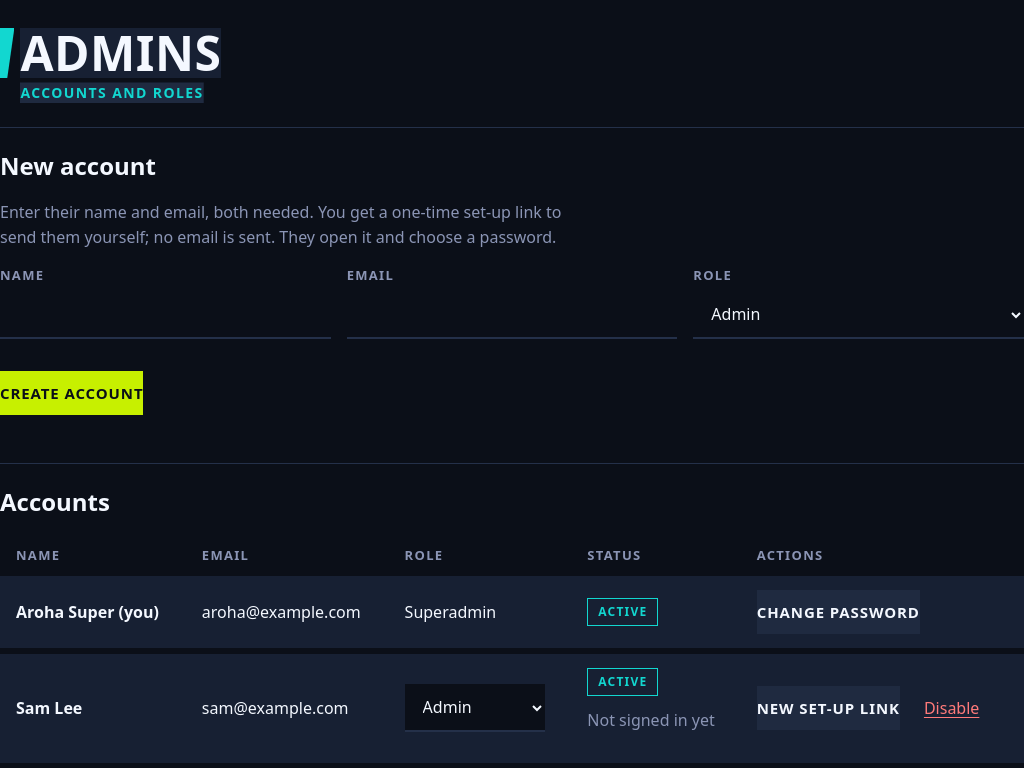
Scenario: Admins screen (A-09) › asks before disabling, does nothing on Cancel, and enables without asking
This screenshot has width=1024, height=768.
Click the button with aria-label "Disable Sam Lee" at (952,708), box [912,686,991,730]
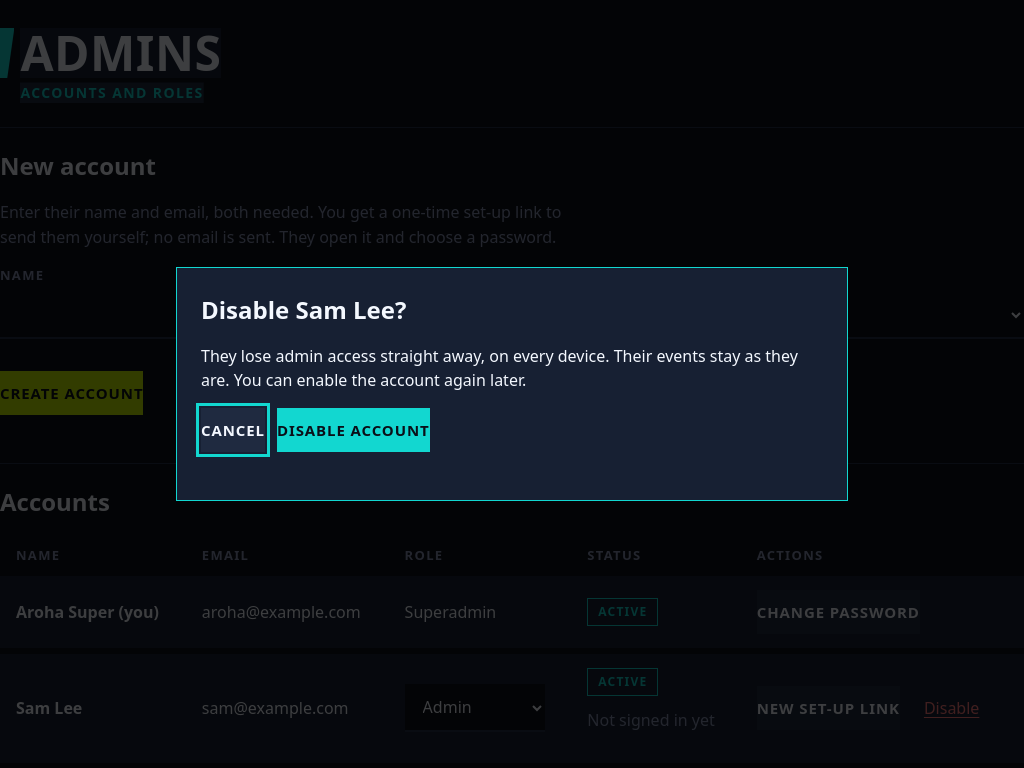
Check: the dialog "Disable Sam Lee?" shows "Their events stay as they are.", box [201,345,798,391]
Click the button "Cancel" at (233,430), box [201,408,265,452]
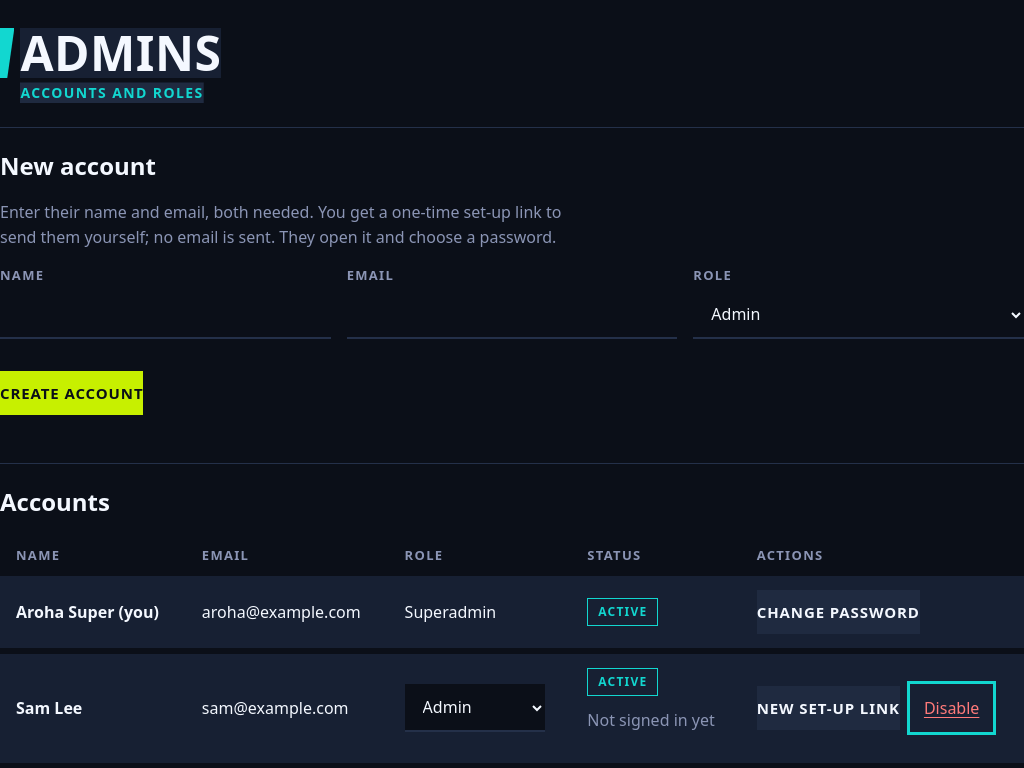
Click the button with aria-label "Disable Sam Lee" at (952,708), box [912,686,991,730]
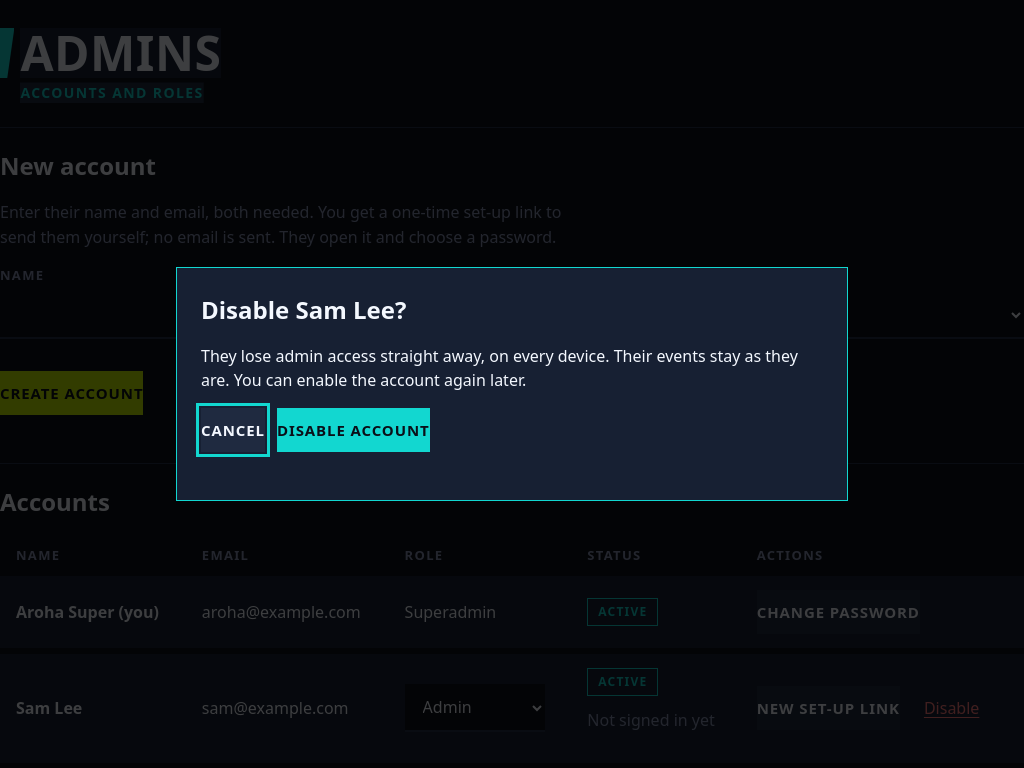
Click the button "Disable account" at (353,430), box [277,408,430,452]
(page scrolled)
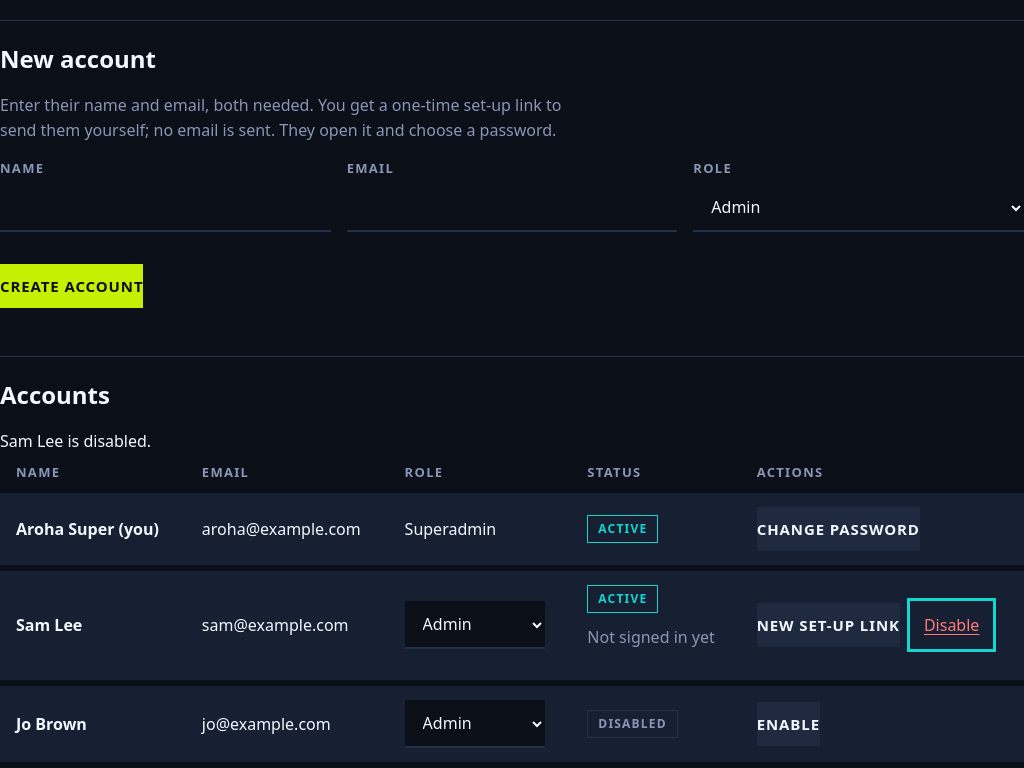
Check: the text "Sam Lee is disabled." is shown, box [0,430,151,452]
Click the button with aria-label "Enable Jo Brown" at (788,724), box [757,702,820,746]
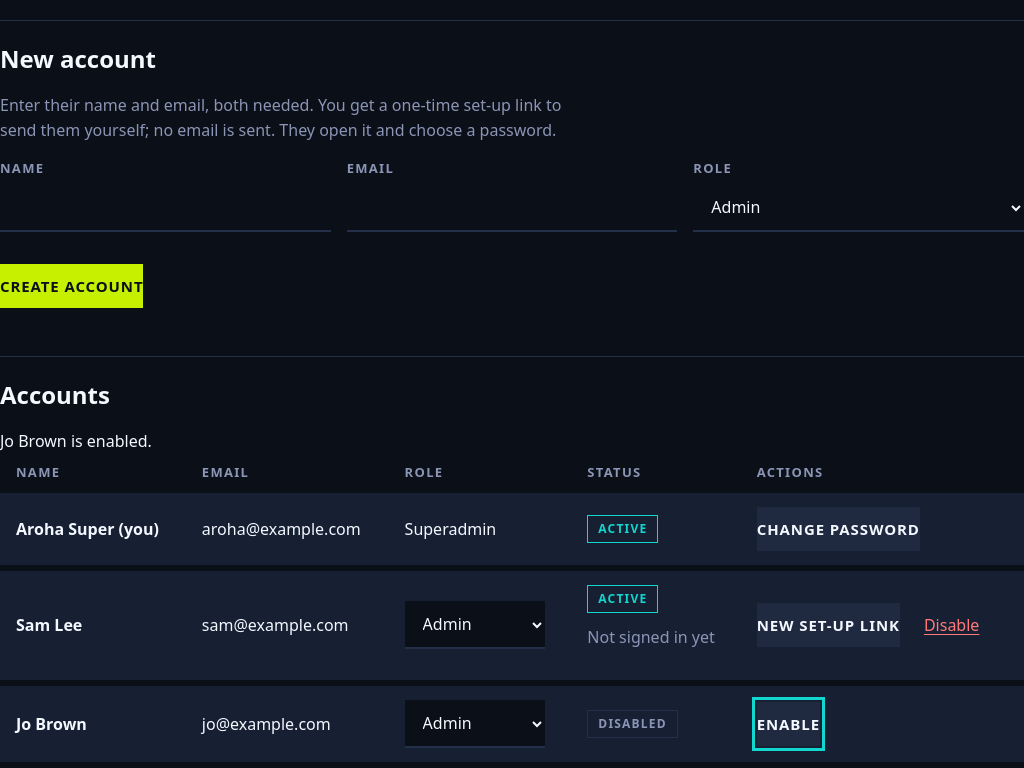
Check: the text "Jo Brown is enabled." is shown, box [0,430,152,452]
